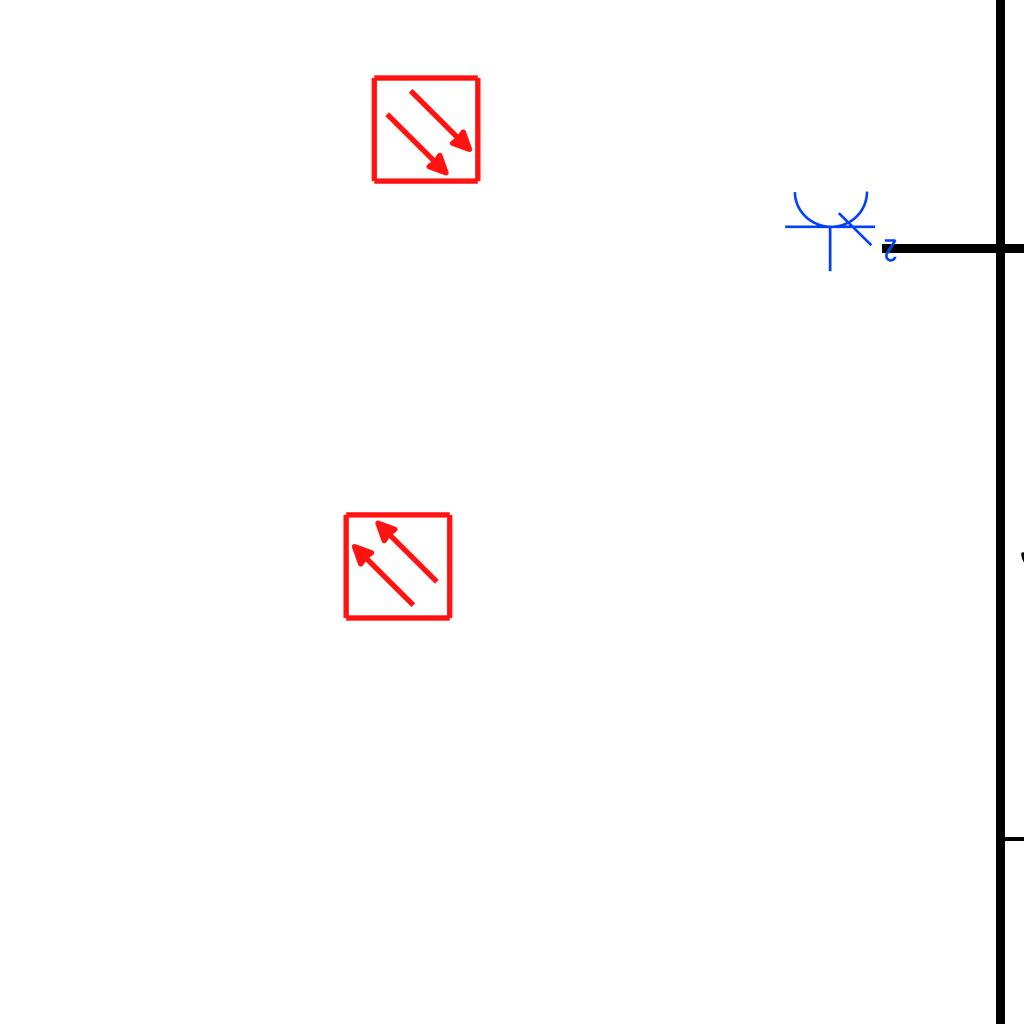RMO_Rauchmelder_optischer: (341, 510, 454, 623), (370, 73, 483, 186)
Schukosteckdose_mehrfach: (783, 185, 904, 273)
